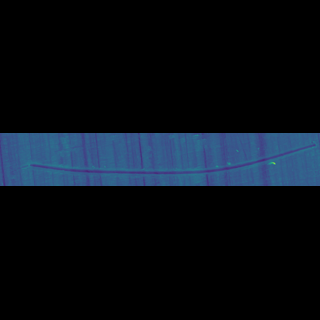Loch: (6, 156, 317, 162)
